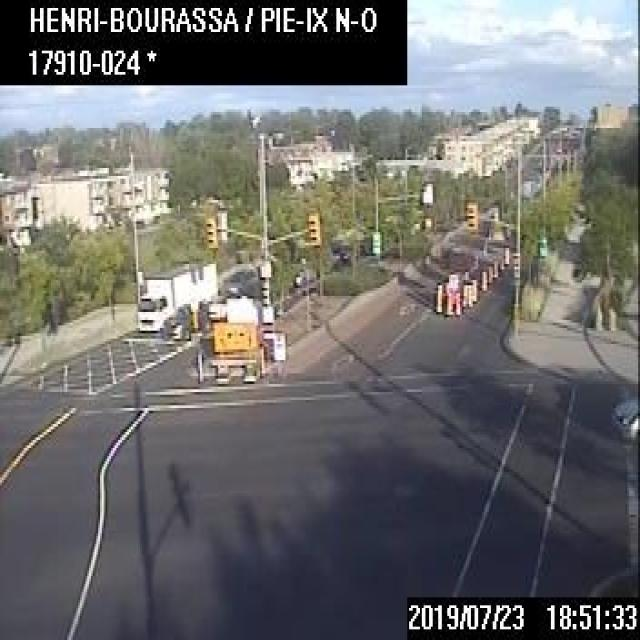construction: (195, 299, 269, 384), (443, 289, 452, 315), (453, 291, 460, 314), (479, 268, 486, 290), (470, 276, 476, 300), (435, 283, 440, 309), (461, 282, 466, 305), (491, 259, 497, 276), (467, 283, 471, 305), (486, 264, 491, 281)
vehicle: (136, 258, 217, 328), (611, 395, 638, 440), (218, 266, 257, 293), (161, 308, 190, 337)
